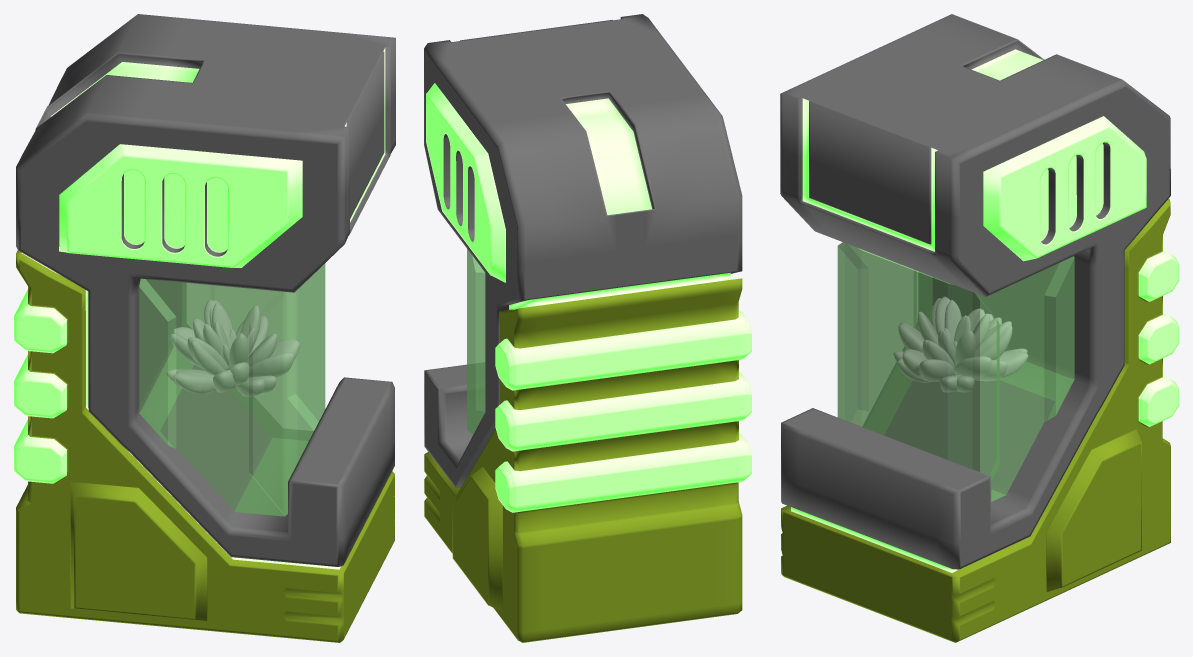
The model's file is plantita1.fbx.
The picture shows the model from 3 angles, left to right: view 1: azimuth 30°, elevation 25°; view 2: azimuth 150°, elevation 25°; view 3: azimuth 270°, elevation 25°; orthographic projection. The views are drawn at different scales.
Visible parts, largest first — view 1: Cube.002, Cube.005; view 2: Cube.002, Cube.005; view 3: Cube.002, Cube.005.
Part boxes in pixels (<box>): Cube.002: <box>14,14,395,642</box>; Cube.005: <box>139,263,325,516</box>; Cube.002: <box>424,14,751,642</box>; Cube.005: <box>467,249,485,434</box>; Cube.002: <box>780,14,1178,642</box>; Cube.005: <box>837,242,1074,501</box>.
Bounding box in the file's own units: 146 × 194 × 144.
